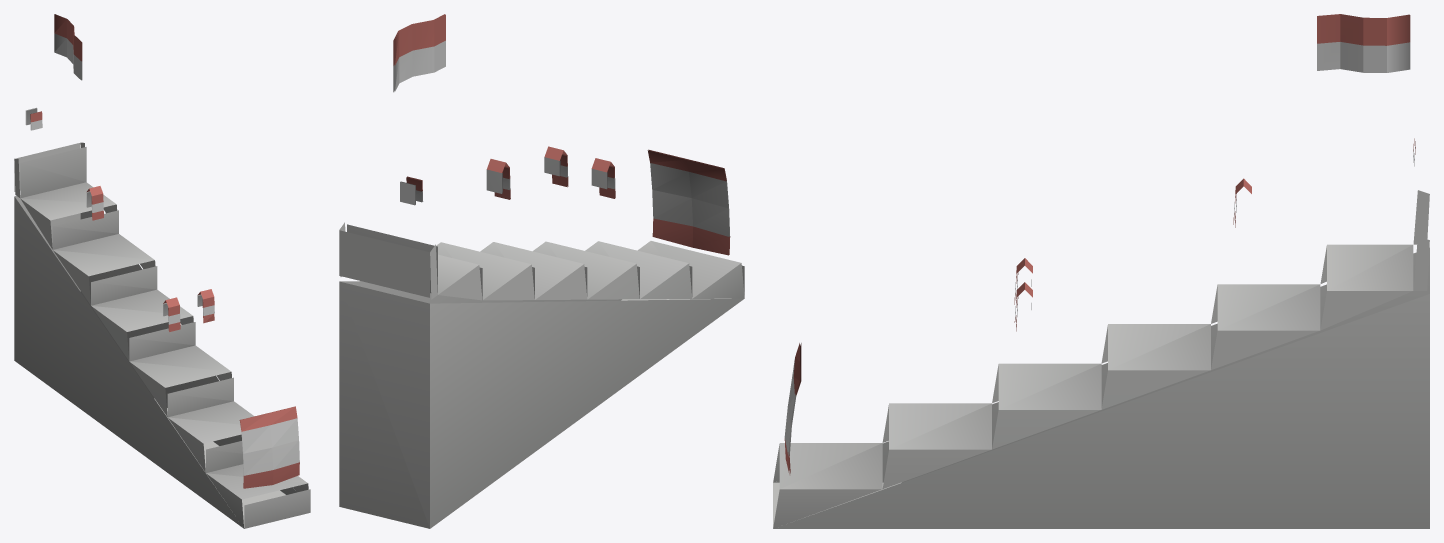
File: terrace.lod.glb
3 views of the same model, side by side, from view 1: azimuth 30°, elevation 25°; view 2: azimuth 150°, elevation 25°; view 3: azimuth 270°, elevation 25° (orthographic). The views are drawn at different scales.
Visible parts, largest first — view 1: terrace.001; view 2: terrace.001; view 3: terrace.001.
Boxes of the visible parts, left/top/right/bottom form: terrace.001: left=14, top=14, right=310, bottom=528; terrace.001: left=339, top=14, right=744, bottom=528; terrace.001: left=773, top=14, right=1429, bottom=528.
Bounding box in the file's own units: 1.5 × 7.42 × 9.
